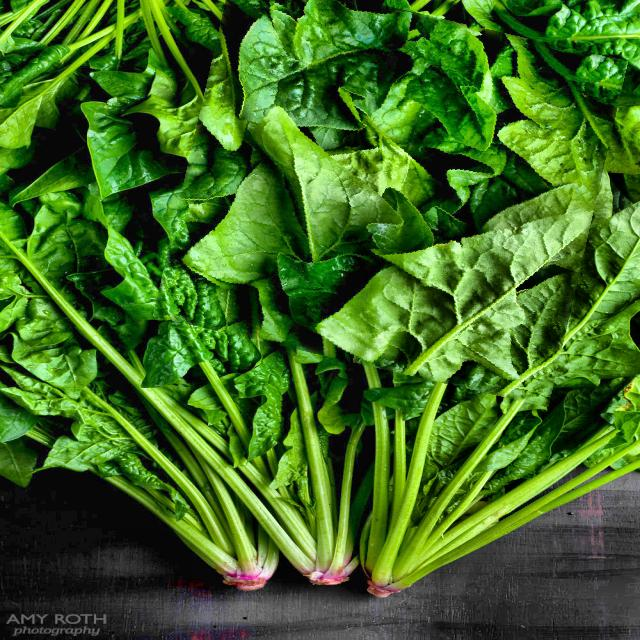spinach: (170, 0, 611, 386)
